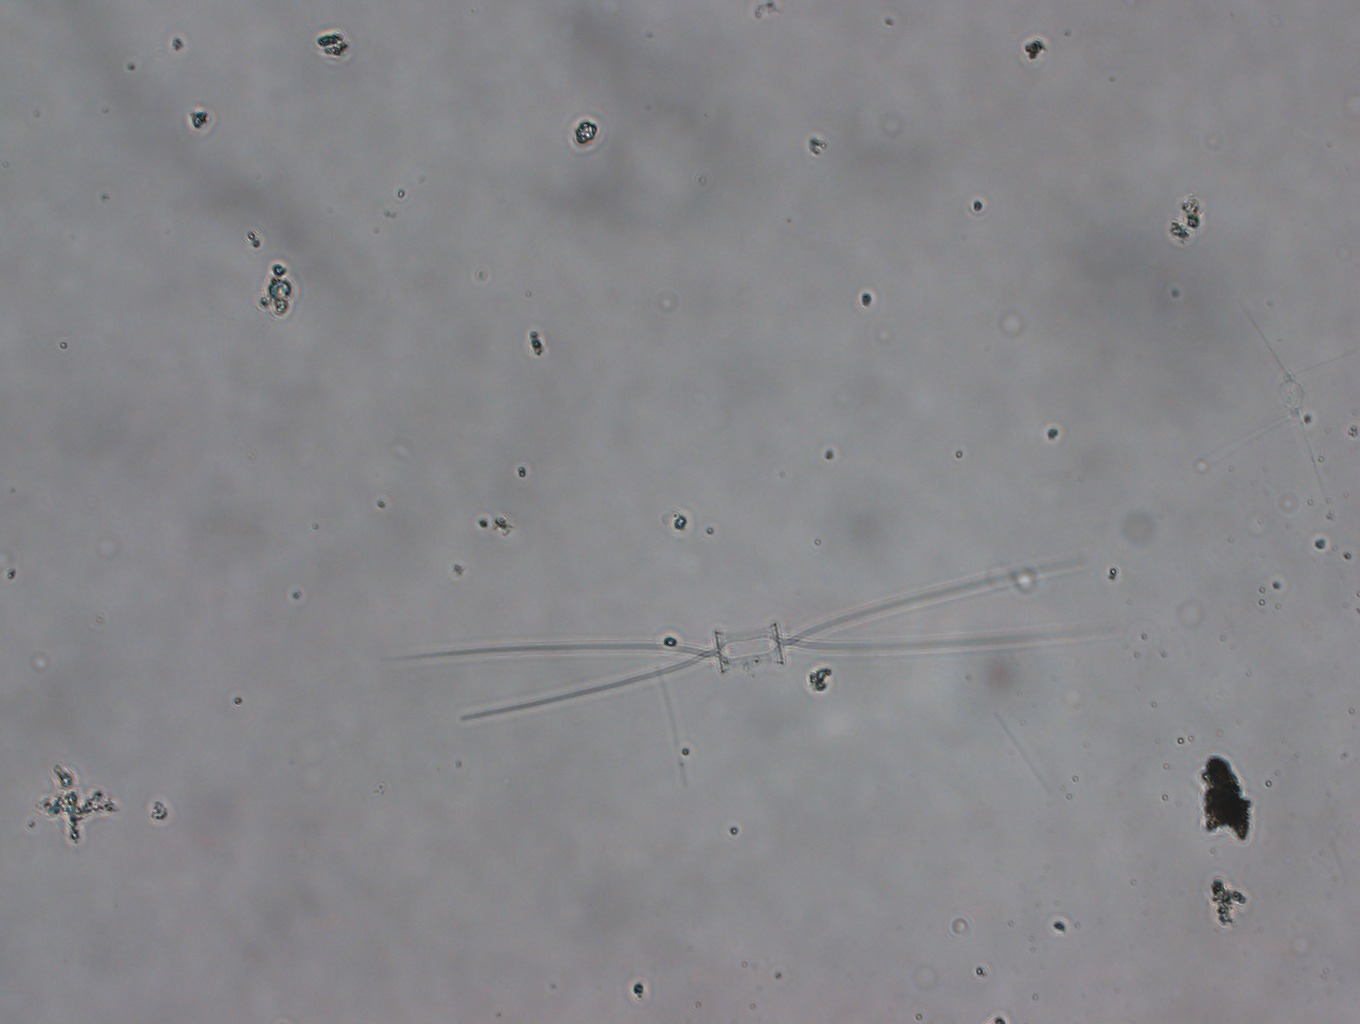chaetoceros: (380, 552, 1113, 722)
